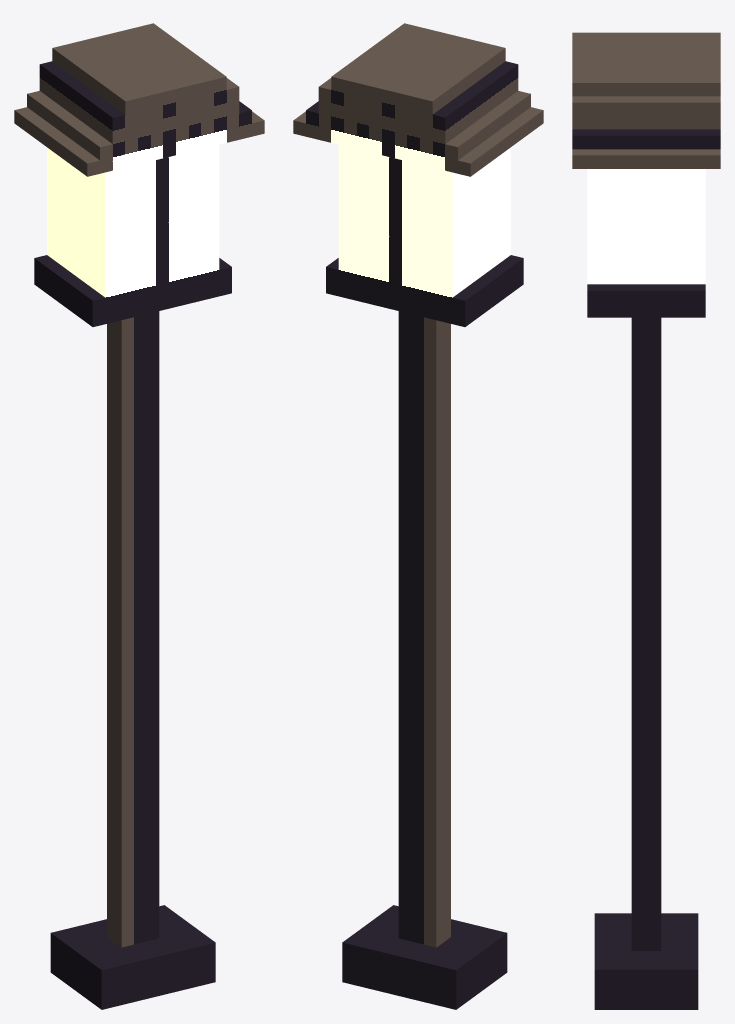
Rendered from lamp.glb.
The picture shows the model from 3 angles, left to right: view 1: azimuth 30°, elevation 25°; view 2: azimuth 150°, elevation 25°; view 3: azimuth 270°, elevation 25°; orthographic projection.
Parts seen in each view (by area): view 1: lamp; view 2: lamp; view 3: lamp.
Boxes of the visible parts, x1,y1,x2,y2 form: lamp: (14, 23, 264, 1009); lamp: (293, 23, 543, 1009); lamp: (572, 32, 720, 1009).
Size of the model in its own units: 14 by 69 by 10.
Materials: 1 (1 with a texture image).
